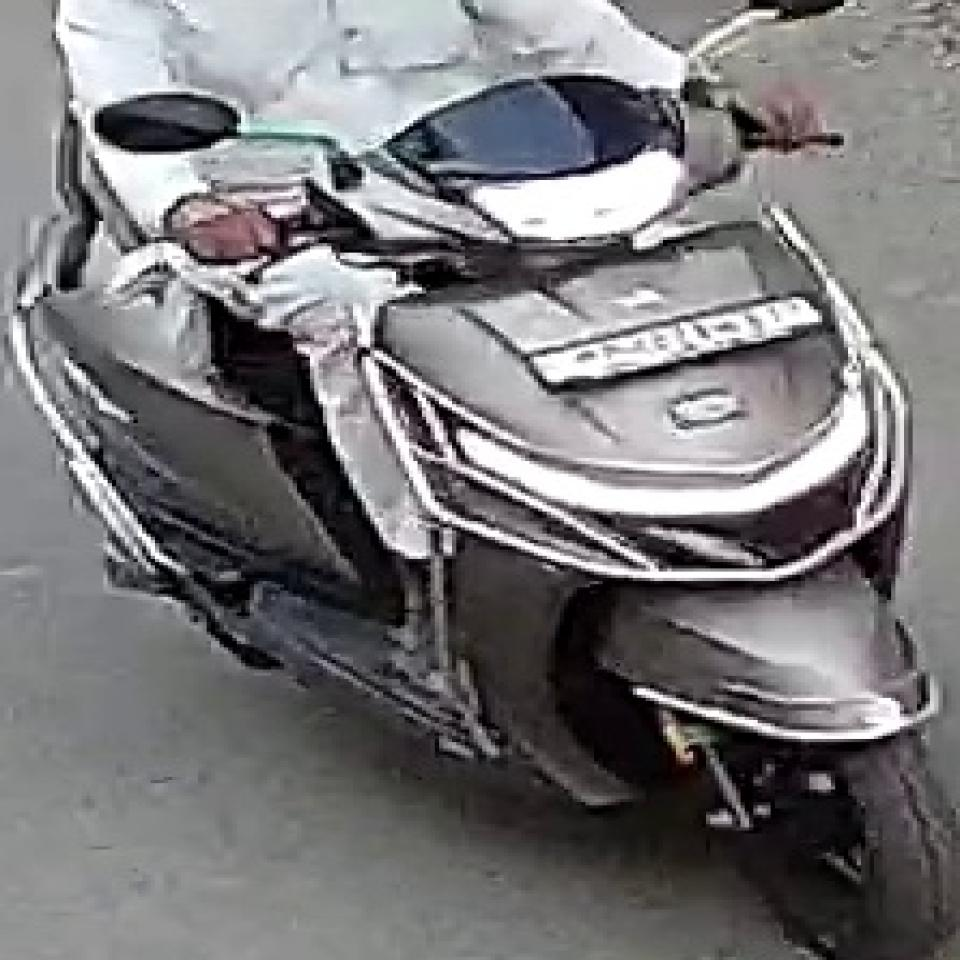tail_light: (444, 128, 700, 243)
